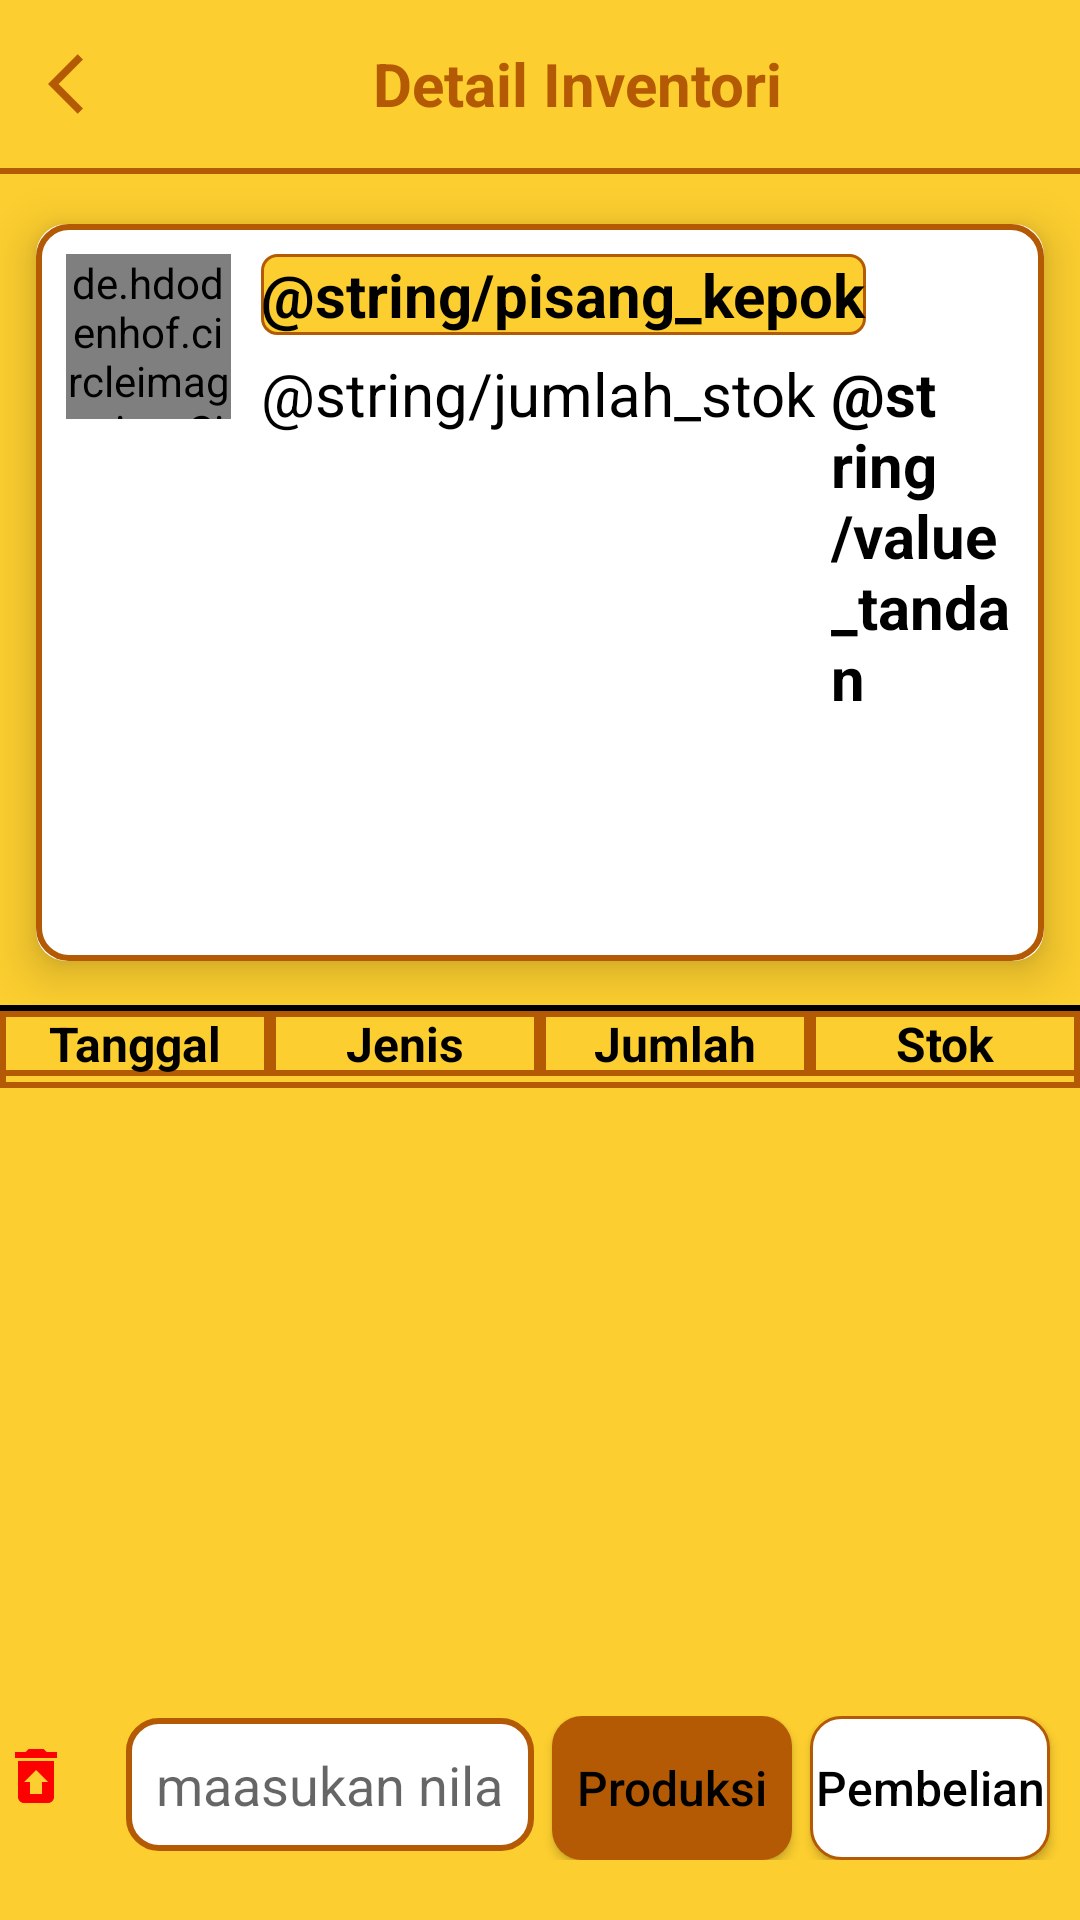

Named icons in this screenshot (1080*1920) and their bounding boxes, (x1=x1, y1=y1, x2=x2, y2=y2):
back: (x1=48, y1=54, x2=83, y2=114)
sampah: (x1=15, y1=1749, x2=57, y2=1803)
